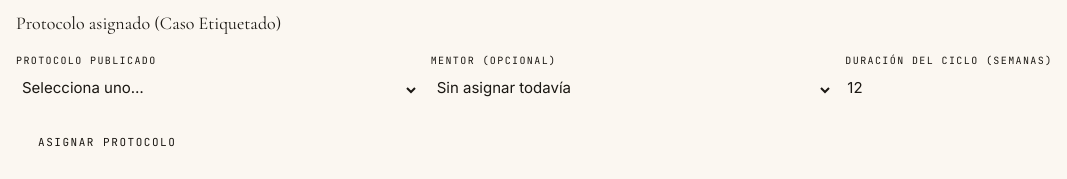
Test: AdminStressCaseAssignmentPanel › lets the admin assign a published protocol + mentor to a client, creating a labeled case
Select "Recuperación Vagal — Nivel 1" in the dropdown labelled "Protocolo publicado": (217, 90) [16, 74, 419, 106]
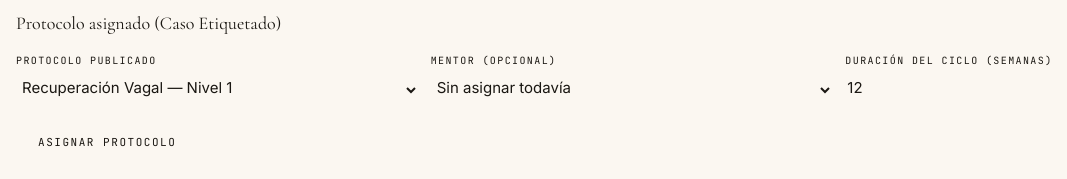
Select "Sofía Duarte" in the dropdown labelled "Mentor (opcional)": (632, 90) [431, 74, 833, 106]
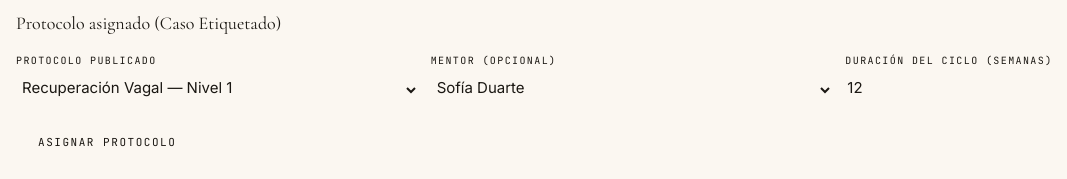
Click the button "Asignar protocolo": click(107, 142) [16, 122, 198, 162]
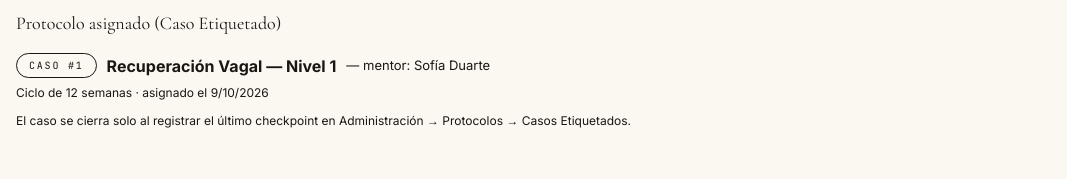
Now the text "Caso #1" is shown, box [16, 53, 97, 78]
